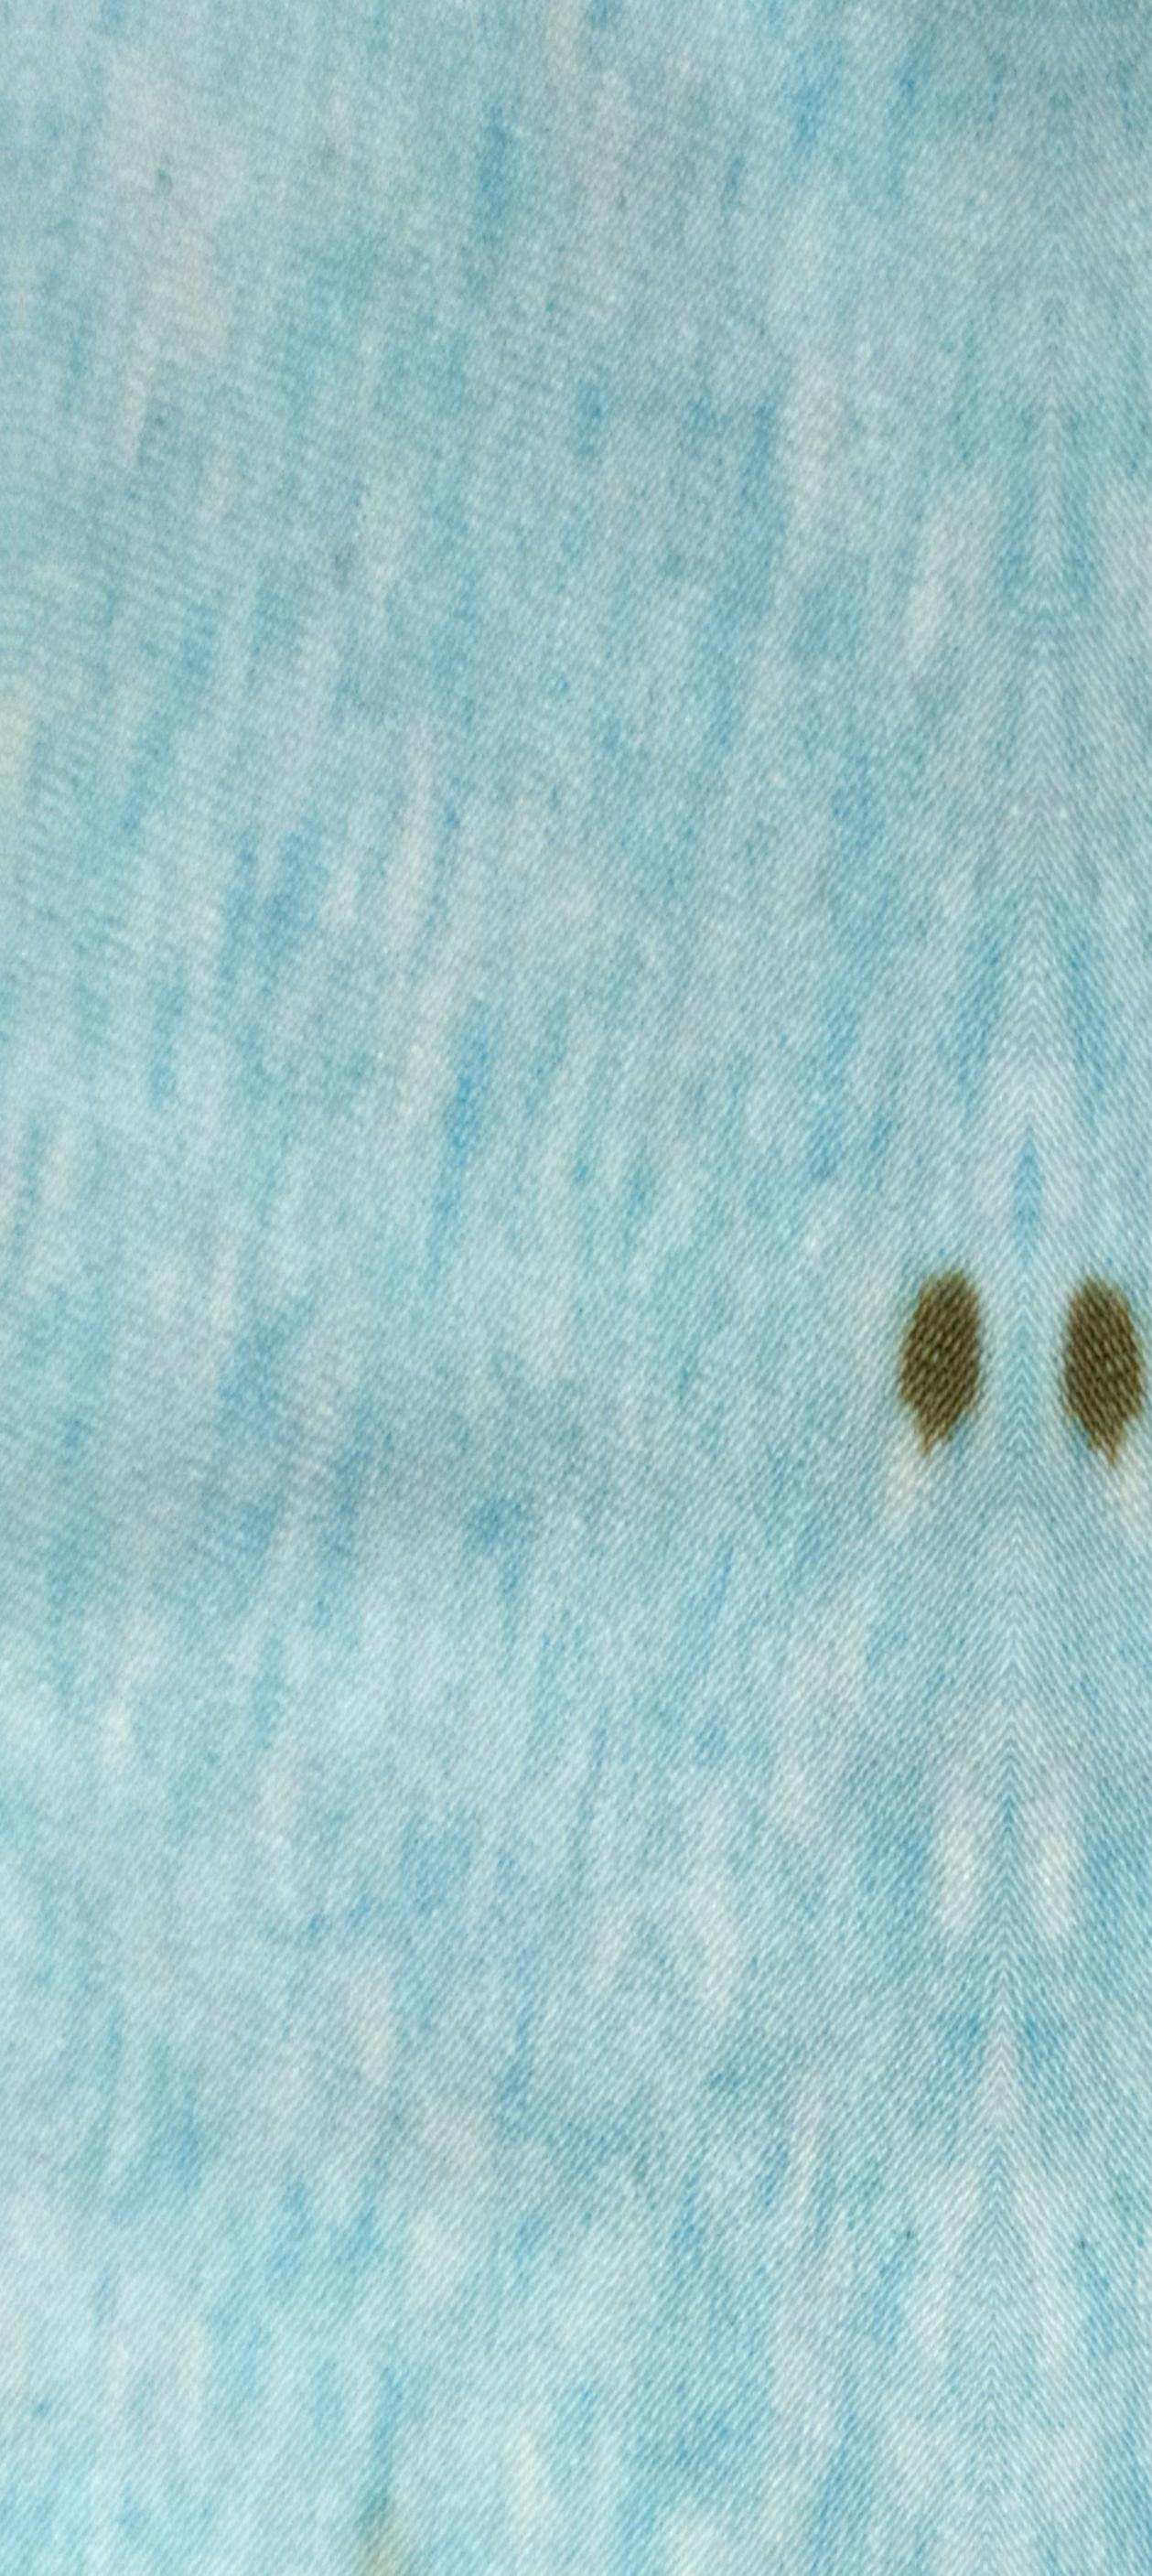stain: (863, 1234, 996, 1464), (1035, 1249, 1137, 1493)
